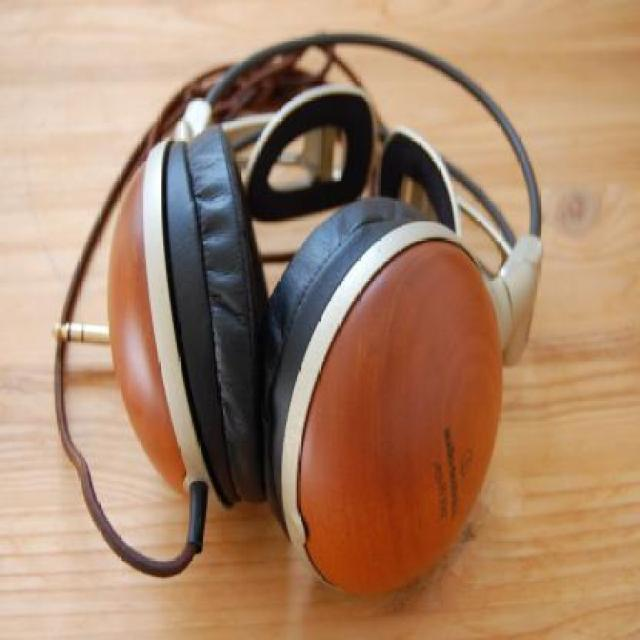earphone: (57, 10, 570, 623)
